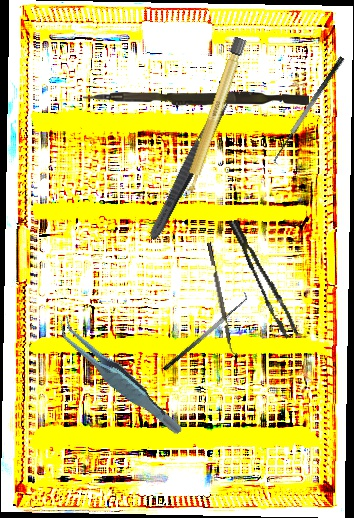Chopper: (206, 241, 240, 358)
Dressing Forceps: (144, 90, 235, 243)
Pusher: (82, 89, 310, 109)
Scalpel Handle: (180, 36, 247, 199)
Spatula Surgical: (267, 55, 354, 168), (156, 290, 253, 372)
Tissue Forceps: (54, 298, 184, 456), (228, 213, 299, 344)
